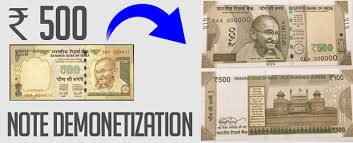fiveHundred: (210, 10, 342, 57)
